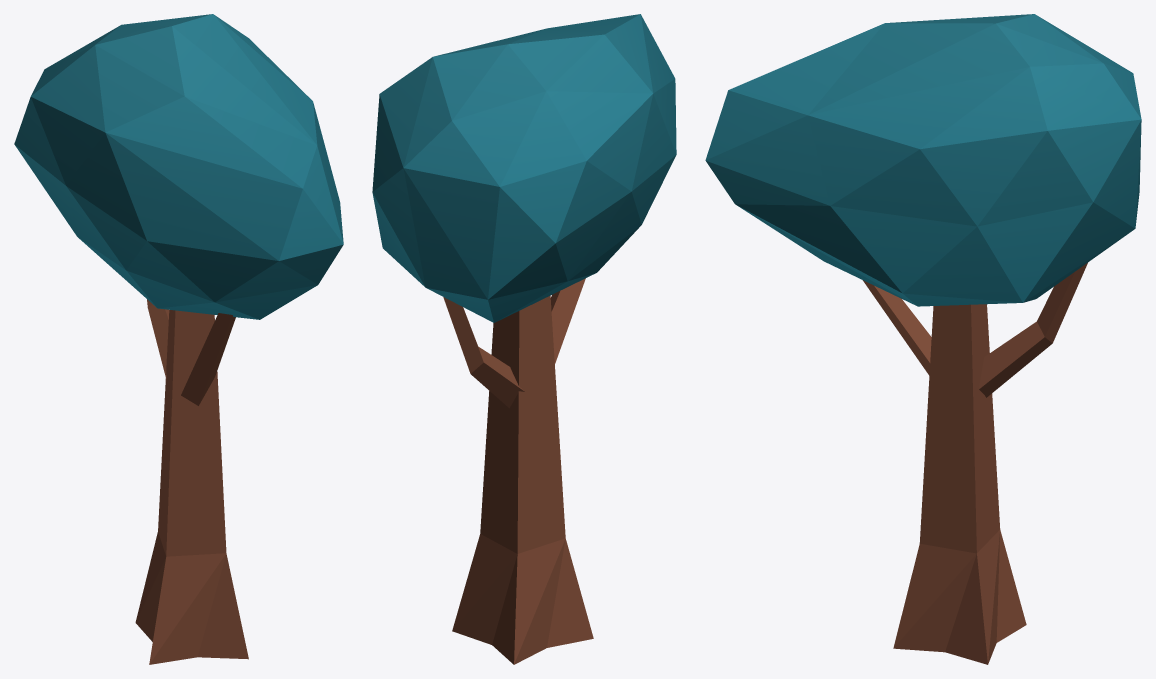
Rendered from Tree_37_gradient_blue_vc.fbx.
3 views of the same model, side by side, from view 1: azimuth 30°, elevation 25°; view 2: azimuth 150°, elevation 25°; view 3: azimuth 270°, elevation 25° (orthographic).
Visible parts, largest first — view 1: Tree_37_gradient_blue_vc; view 2: Tree_37_gradient_blue_vc; view 3: Tree_37_gradient_blue_vc.
Boxes of the visible parts, x1,y1,x2,y2 form: Tree_37_gradient_blue_vc: (14, 14, 343, 664); Tree_37_gradient_blue_vc: (372, 14, 676, 664); Tree_37_gradient_blue_vc: (705, 14, 1141, 664).
Size of the model in its own units: 93.74 by 233 by 151.
